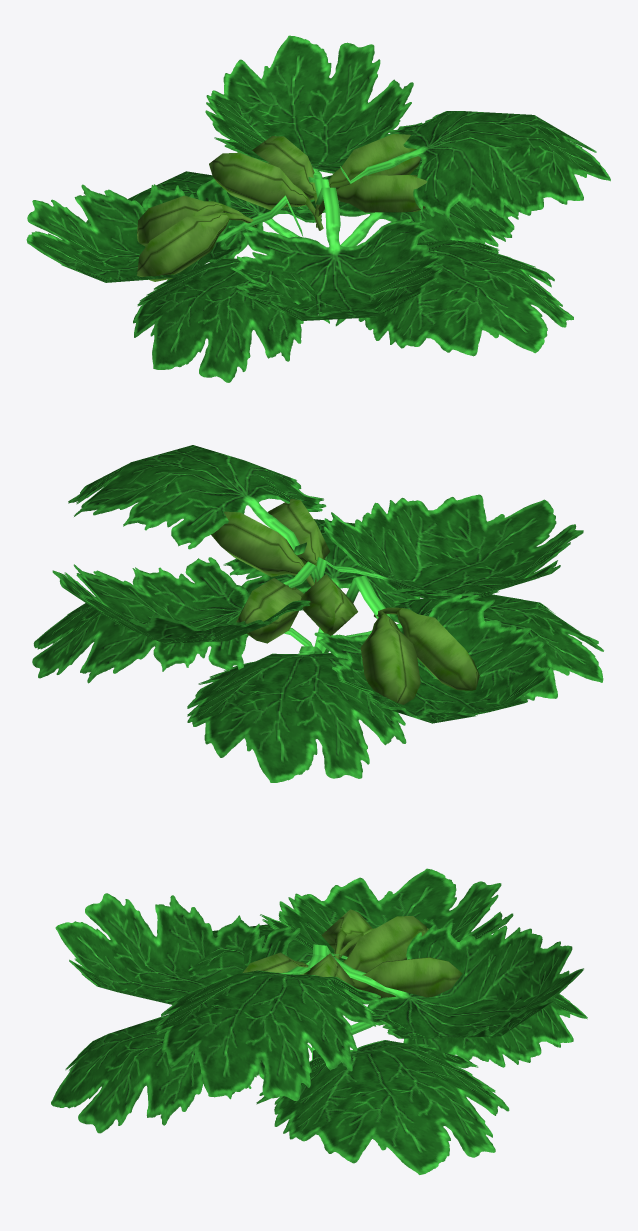
Rendered from mexican_pumpkings.dae.
3 renders of one model, top to bottom at view 1: azimuth 30°, elevation 25°; view 2: azimuth 150°, elevation 25°; view 3: azimuth 270°, elevation 25°, orthographic. The views are drawn at different scales.
Parts seen in each view (by area): view 1: Plane.003; view 2: Plane.003; view 3: Plane.003.
Boxes of the visible parts, x1,y1,x2,y2 form: Plane.003: (26,35,610,382); Plane.003: (32,445,603,782); Plane.003: (51,868,587,1174).
Size of the model in its own units: 5 by 4.52 by 1.59.
